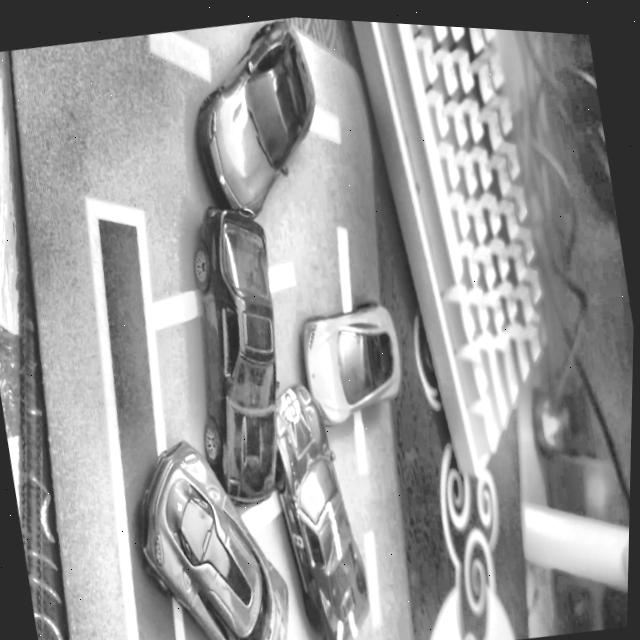car: (162, 192, 314, 516), (122, 420, 306, 640), (176, 8, 336, 229), (256, 370, 386, 640), (294, 292, 414, 430)
